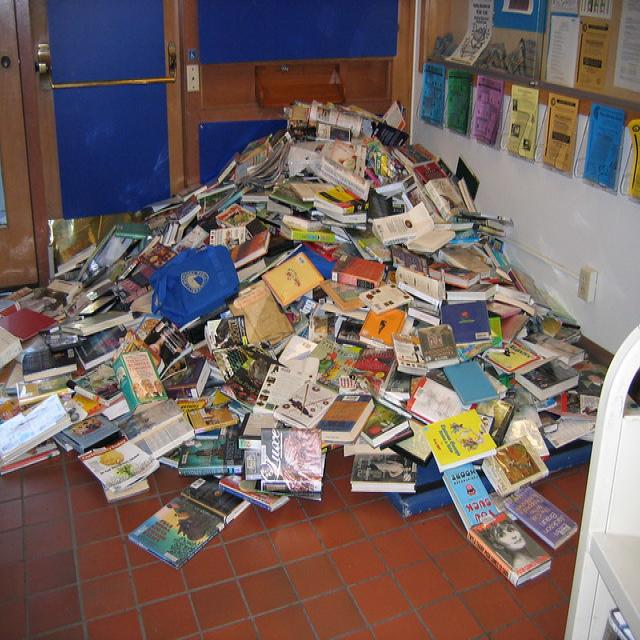book -group-: (0, 91, 640, 598)
